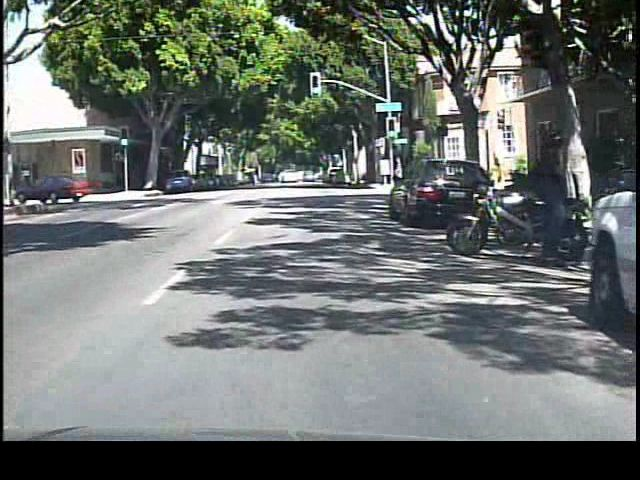person: (520, 122, 561, 271), (389, 154, 406, 191)
